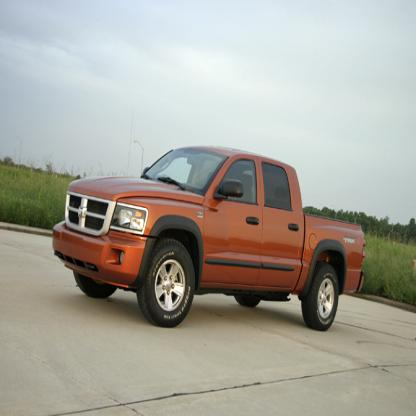Vehicle: (54, 147, 365, 335)
